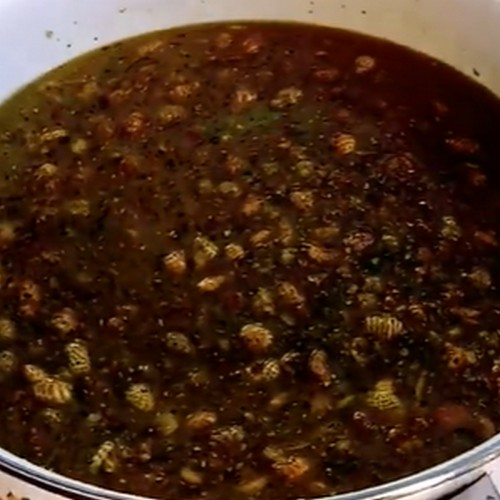komoh: (15, 46, 488, 455)
